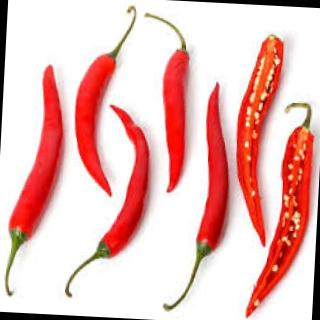Cabai Merah: (68, 104, 156, 306), (244, 119, 317, 320), (7, 64, 70, 242), (158, 17, 197, 195), (75, 58, 122, 202), (200, 91, 233, 256)
